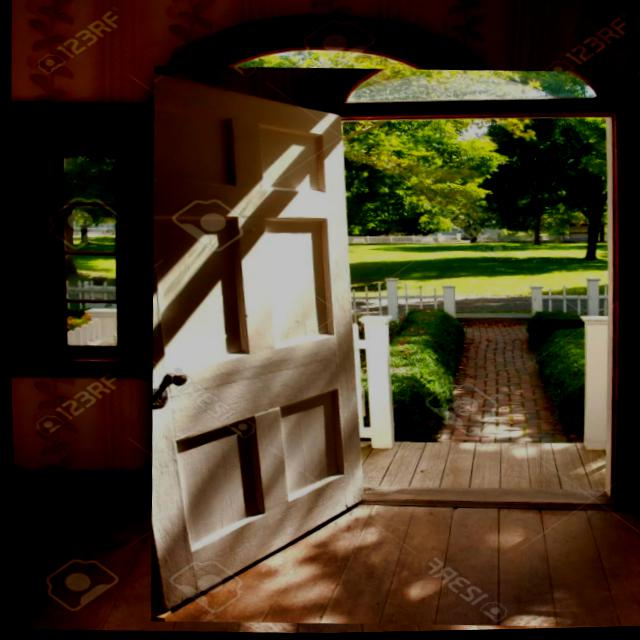open: (133, 57, 639, 637)
